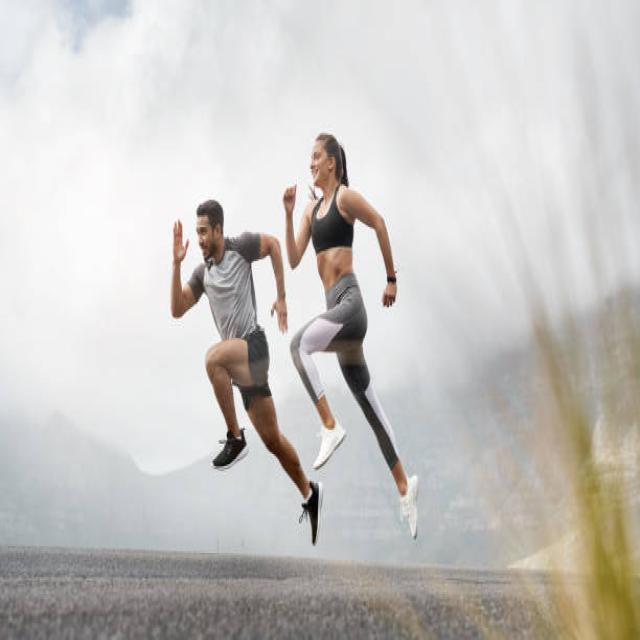Person: (283, 133, 419, 540), (171, 198, 324, 544)
